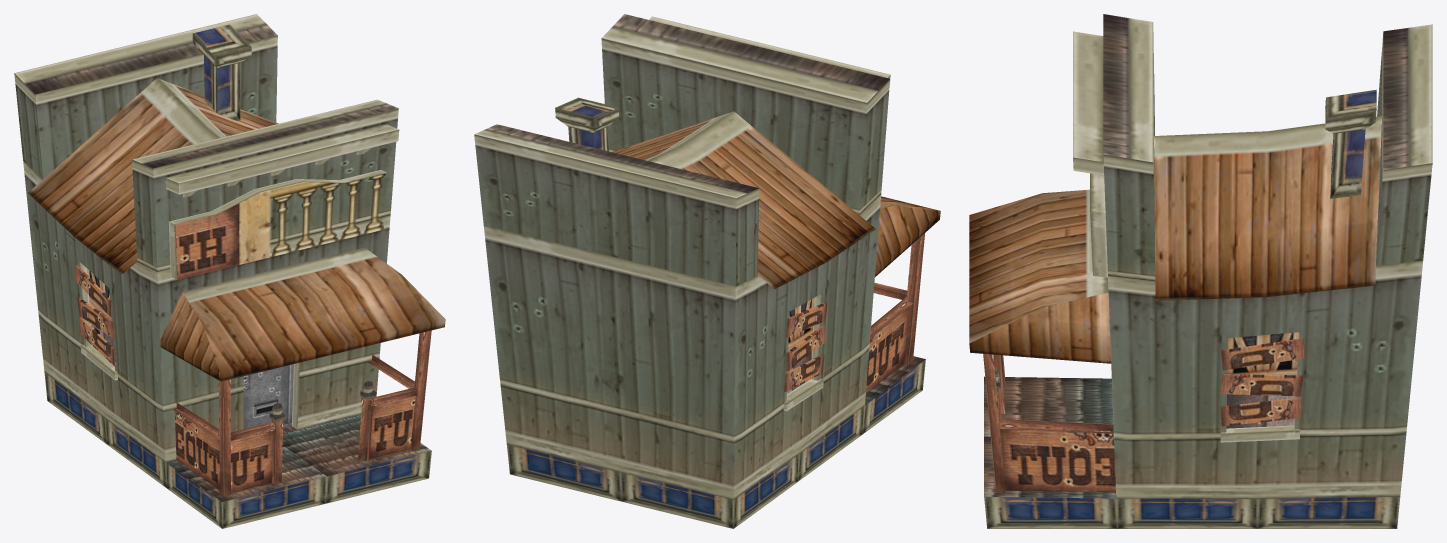
The picture shows the model from 3 angles, left to right: view 1: azimuth 30°, elevation 25°; view 2: azimuth 150°, elevation 25°; view 3: azimuth 270°, elevation 25°; orthographic projection. The views are drawn at different scales.
Parts seen in each view (by area): view 1: hideout; view 2: hideout; view 3: hideout.
Part boxes in pixels (bbox=[...]): hideout: bbox=[14, 14, 445, 528]; hideout: bbox=[474, 14, 940, 528]; hideout: bbox=[969, 14, 1432, 528].
Bounding box in the file's own units: 324 × 398 × 419.
1 material, 1 textured.
